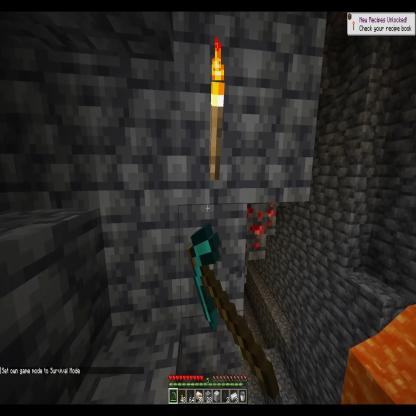redstone ore: (244, 203, 268, 261), (268, 201, 276, 235)
